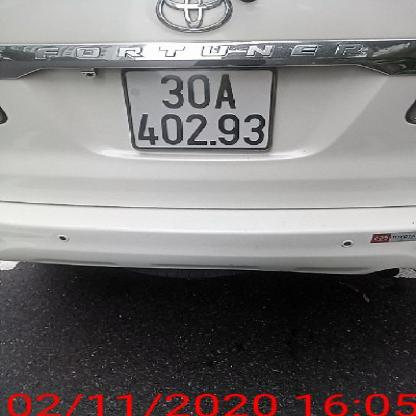biensoxe: (121, 63, 280, 150)
